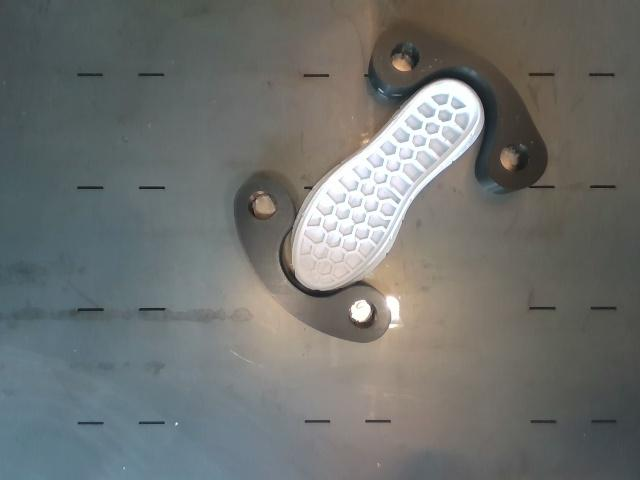shoes: (293, 80, 479, 288)
